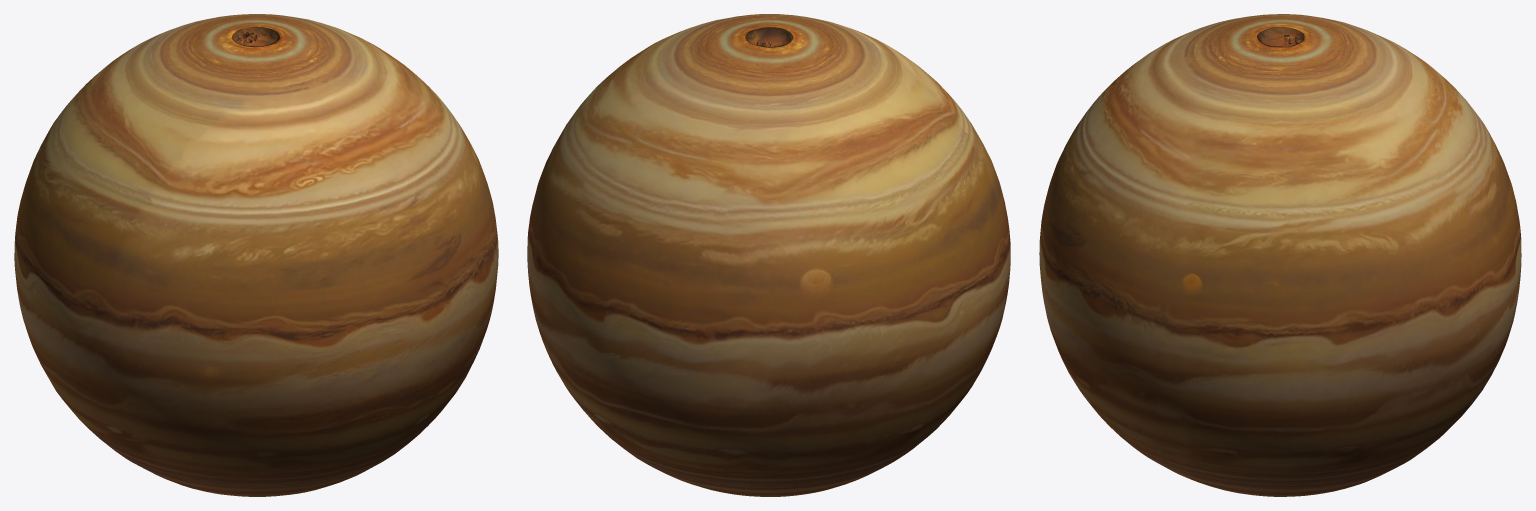
Rendered from gas_planet_1.glb.
3 views of the same model, side by side, from view 1: azimuth 30°, elevation 25°; view 2: azimuth 150°, elevation 25°; view 3: azimuth 270°, elevation 25° (orthographic).
Parts seen in each view (by area): view 1: Mesh_0.020; view 2: Mesh_0.020; view 3: Mesh_0.020.
Boxes of the visible parts, left/top/right/bottom form: Mesh_0.020: left=14, top=14, right=498, bottom=496; Mesh_0.020: left=527, top=14, right=1010, bottom=496; Mesh_0.020: left=1039, top=14, right=1521, bottom=496.
Bounding box in the file's own units: 2 × 2 × 2.
1 material, 1 textured.
